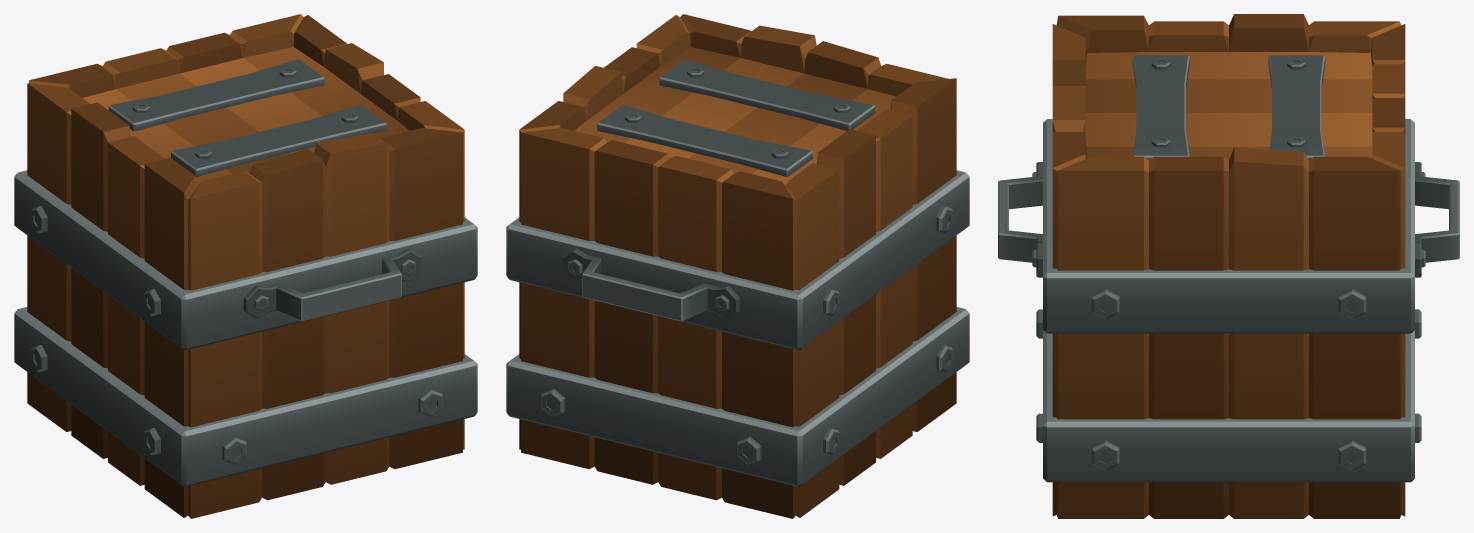
3 renders of one model, left to right at view 1: azimuth 30°, elevation 25°; view 2: azimuth 150°, elevation 25°; view 3: azimuth 270°, elevation 25°, orthographic. The views are drawn at different scales.
Visible parts, largest first — view 1: Box-1-2; view 2: Box-1-2; view 3: Box-1-2.
Boxes of the visible parts, bbox=[...] form: Box-1-2: bbox=[14, 14, 477, 518]; Box-1-2: bbox=[506, 14, 969, 518]; Box-1-2: bbox=[998, 14, 1459, 518].
Size of the model in its own units: 101 by 104 by 121.
